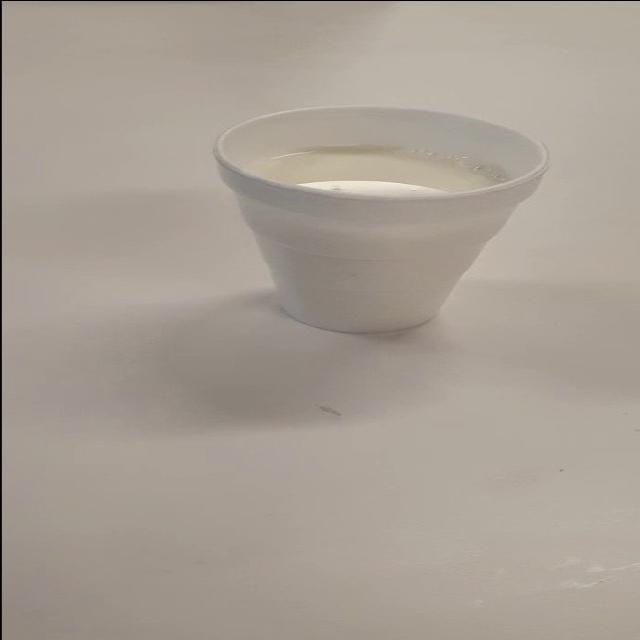Milk: (192, 99, 572, 335)
